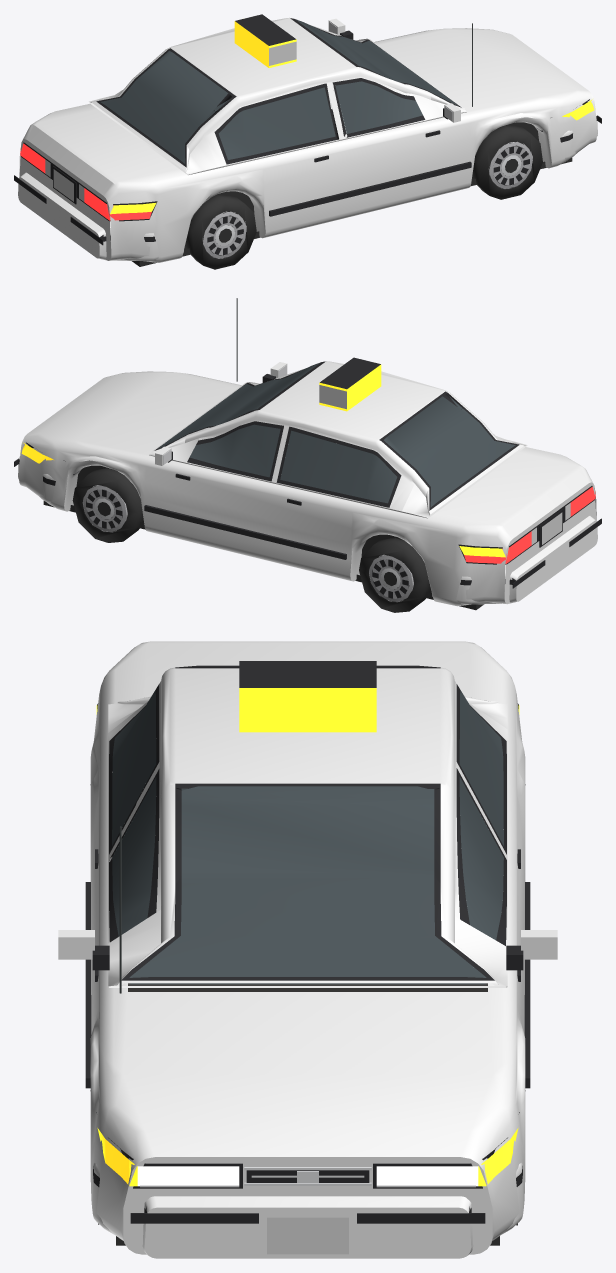
Rendered from car_taxi_far.glb.
The picture shows the model from 3 angles, top to bottom: view 1: azimuth 30°, elevation 25°; view 2: azimuth 150°, elevation 25°; view 3: azimuth 270°, elevation 25°; orthographic projection. The views are drawn at different scales.
Visible parts, largest first — view 1: body, wheel_RR, wheel_FR; view 2: body, wheel_FL, wheel_RL; view 3: body.
Part boxes in pixels (bbox=[...]): body: bbox=[14, 14, 601, 266]; wheel_RR: bbox=[185, 195, 256, 269]; wheel_FR: bbox=[472, 125, 542, 199]; body: bbox=[14, 298, 601, 610]; wheel_FL: bbox=[72, 468, 143, 542]; wheel_RL: bbox=[359, 538, 430, 612]; body: bbox=[58, 641, 557, 1258].
Bounding box in the file's own units: 4.71 × 1.63 × 2.04.
